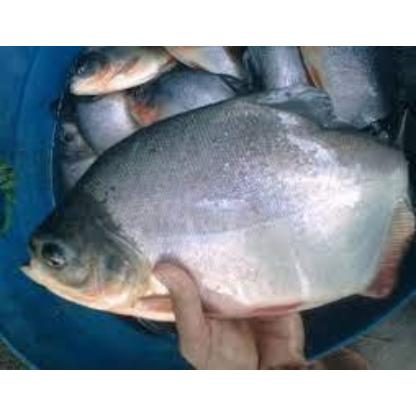ikan-pacu: (26, 94, 412, 320)
